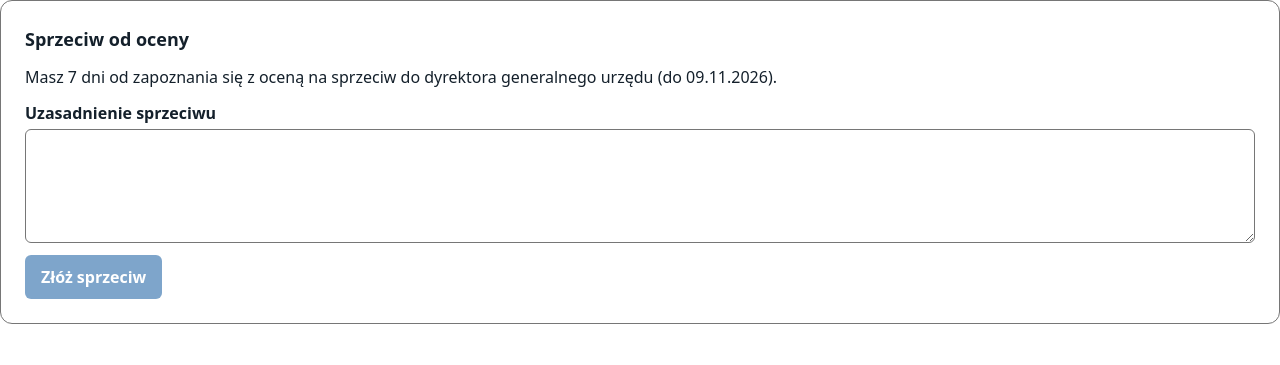
Test case: ObjectionPanel › shows the Polish error when filing is refused
Type "x" into the text box labelled "Uzasadnienie sprzeciwu". click: {"x": 640, "y": 186}
box: [25,129,1255,243]
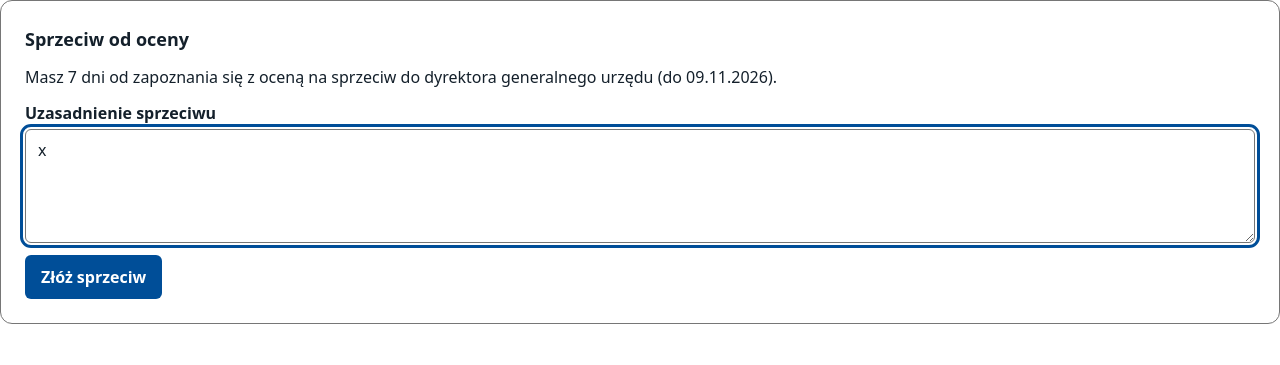
Click the button "Złóż sprzeciw". click: {"x": 94, "y": 277}
box: [25,255,162,299]
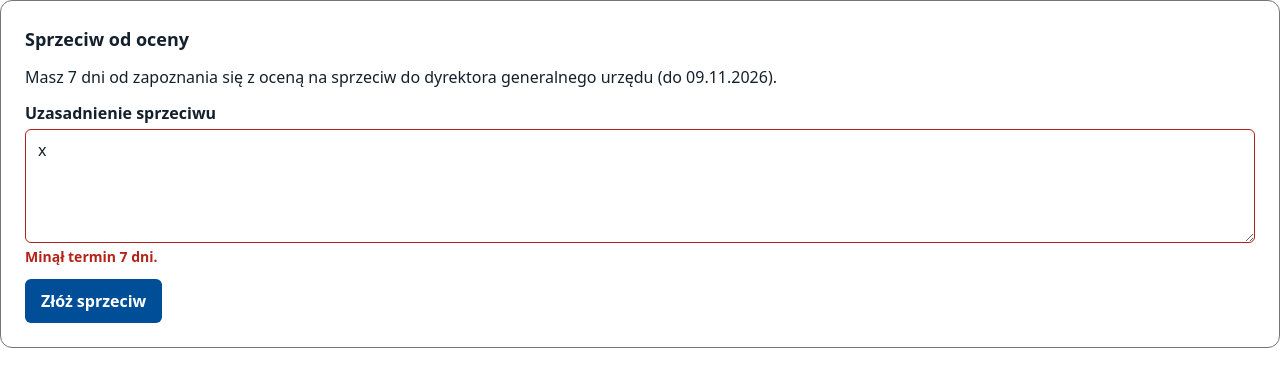
Expected: the text "Minął termin 7 dni." is shown, [25,247,158,266]
